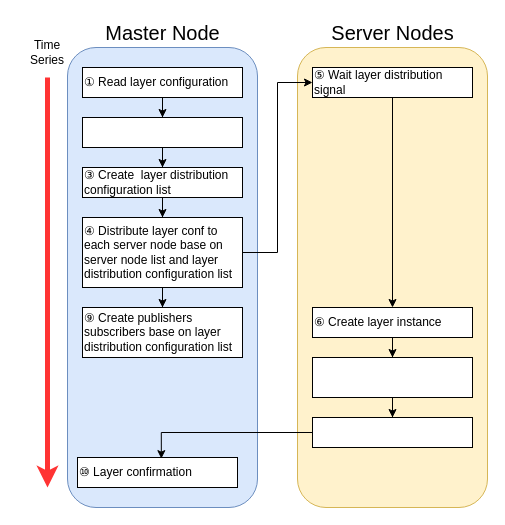
This 505x525 diagram has some shape labels left out. The shapes that lost their labels are listed below. From the top down, each one's centre as x and y in pixels, then its label:
At (162,132): "② Read model configuration".
At (392,377): "⑦ Create publishers and subscribers".
At (392,432): "⑧ Send confirm massage".
